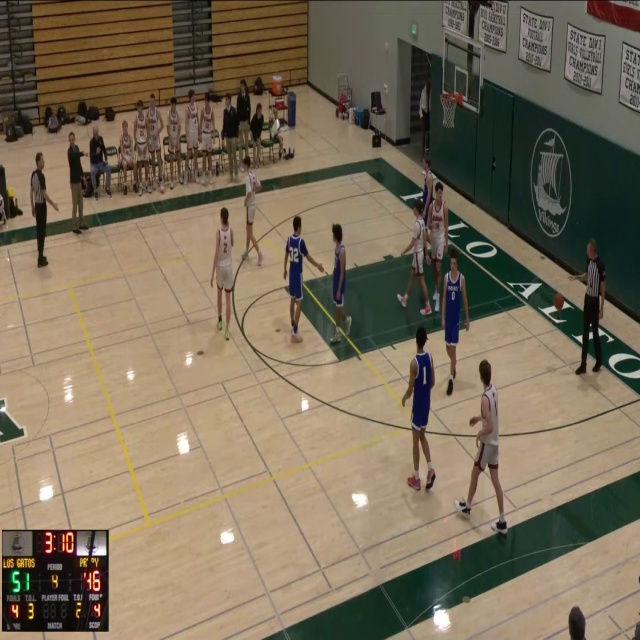Basketball: (554, 294, 563, 310)
